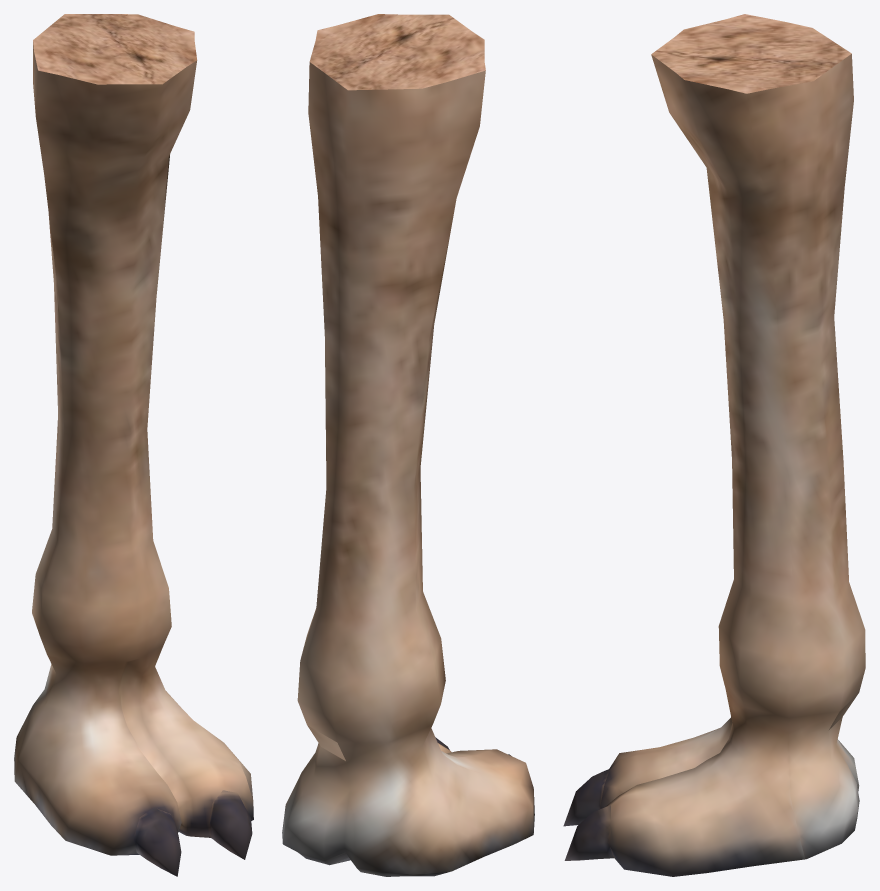
The model's file is DR_Pata.obj.
The picture shows the model from 3 angles, left to right: view 1: azimuth 30°, elevation 25°; view 2: azimuth 150°, elevation 25°; view 3: azimuth 270°, elevation 25°; orthographic projection. The views are drawn at different scales.
Visible parts, largest first — view 1: DR_Pata; view 2: DR_Pata; view 3: DR_Pata.
Boxes of the visible parts, <box> form: DR_Pata: <box>14,14,253,876</box>; DR_Pata: <box>282,14,534,876</box>; DR_Pata: <box>563,14,865,876</box>.
Size of the model in its own units: 0.1477 by 0.5693 by 0.1984.
